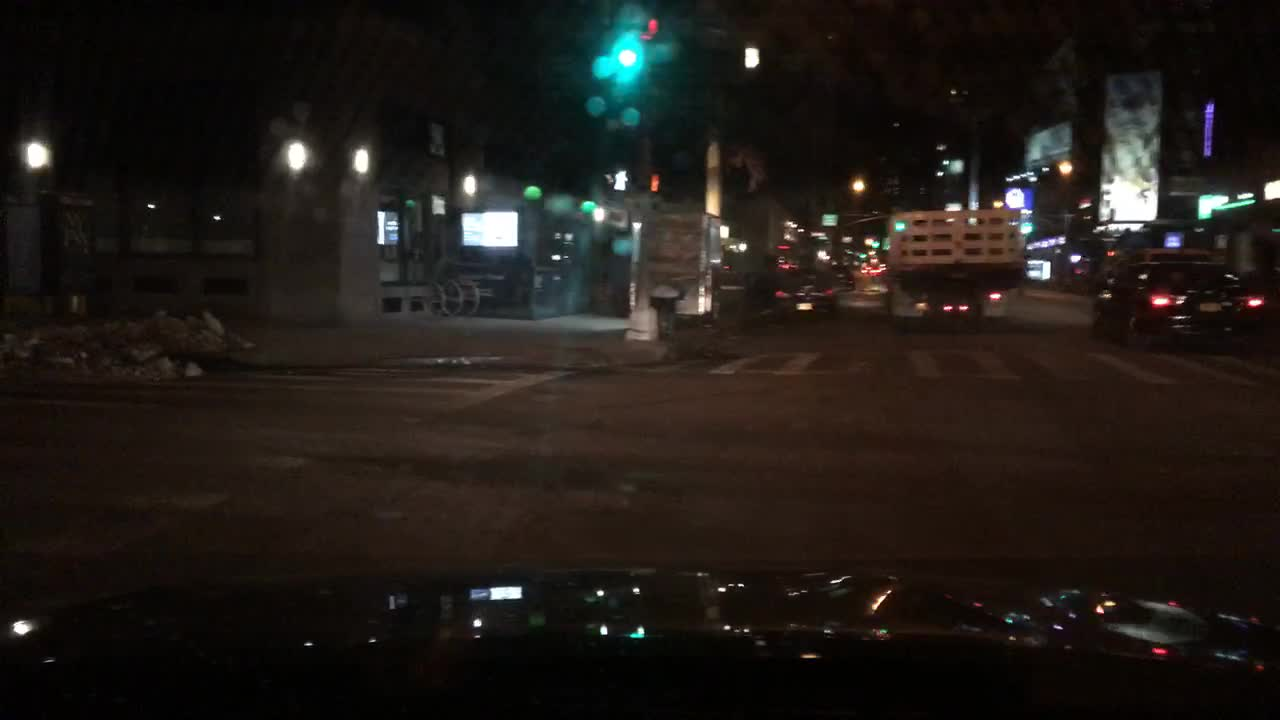car: (1090, 266, 1254, 354), (773, 259, 835, 322), (1119, 248, 1209, 265), (827, 264, 859, 290), (864, 271, 886, 293), (845, 261, 860, 278)
traffic light: (612, 15, 631, 77), (641, 8, 654, 71), (606, 165, 629, 194), (641, 172, 661, 194), (857, 242, 865, 259), (872, 234, 879, 253)
traffic sign: (820, 214, 838, 227)
truck: (881, 205, 1029, 325)
